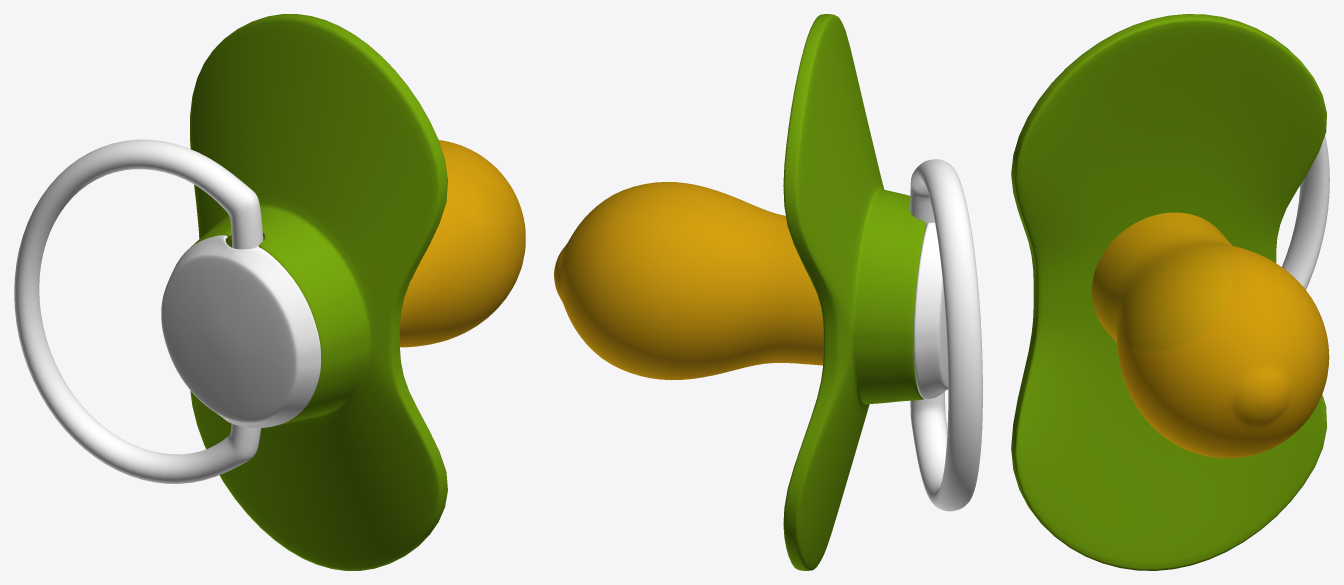
Rendered from Pacifier_v1_L3.obj.
The picture shows the model from 3 angles, left to right: view 1: azimuth 30°, elevation 25°; view 2: azimuth 150°, elevation 25°; view 3: azimuth 270°, elevation 25°; orthographic projection. The views are drawn at different scales.
Parts seen in each view (by area): view 1: pacifier_body, pacifier_back_part, pacifier_handle, pacifier_dummy; view 2: pacifier_body, pacifier_dummy, pacifier_handle, pacifier_back_part; view 3: pacifier_body, pacifier_dummy, pacifier_handle.
Part boxes in pixels (<box>): pacifier_body: <box>190,14,447,570</box>; pacifier_back_part: <box>161,235,320,428</box>; pacifier_handle: <box>14,139,263,483</box>; pacifier_dummy: <box>263,140,525,347</box>; pacifier_body: <box>783,14,926,570</box>; pacifier_dummy: <box>554,182,823,380</box>; pacifier_handle: <box>910,159,982,511</box>; pacifier_back_part: <box>913,222,948,399</box>; pacifier_body: <box>1011,14,1326,570</box>; pacifier_dummy: <box>1091,212,1329,458</box>; pacifier_handle: <box>1282,135,1329,289</box>.
Size of the model in its own units: 4.85 by 5.45 by 2.86.
